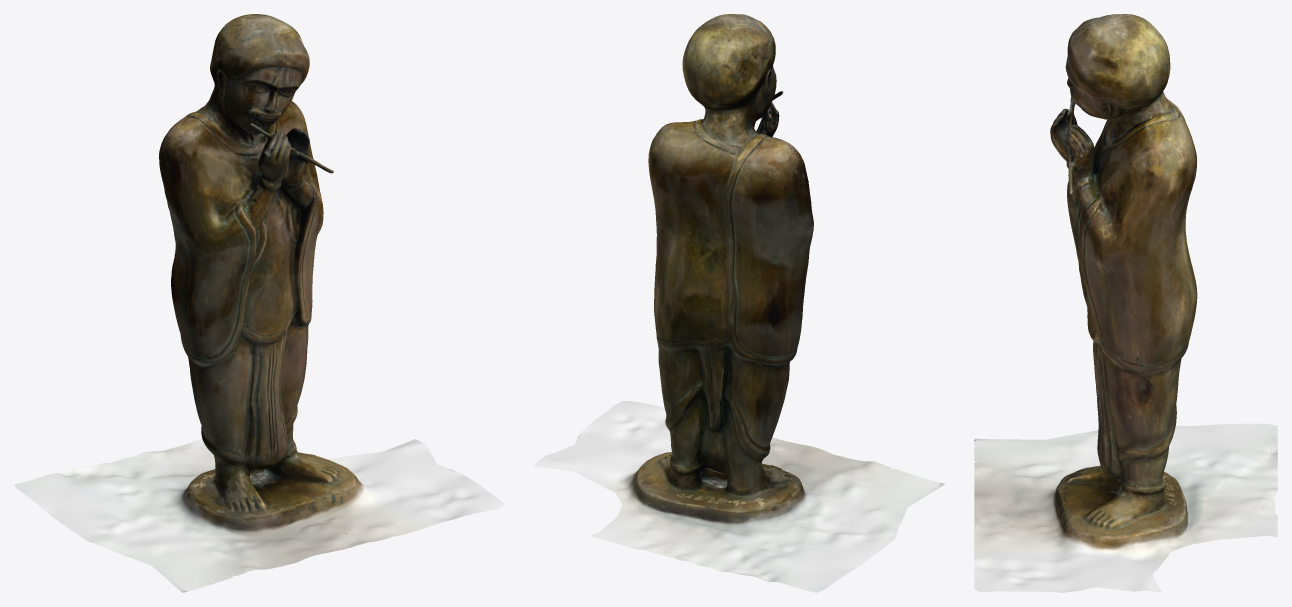
The model's file is LordKrishna.glb.
3 views of the same model, side by side, from view 1: azimuth 30°, elevation 25°; view 2: azimuth 150°, elevation 25°; view 3: azimuth 270°, elevation 25° (orthographic). The views are drawn at different scales.
Parts seen in each view (by area): view 1: LordKrishna; view 2: LordKrishna; view 3: LordKrishna.
Boxes of the visible parts, box(x1,y1,x2,y2) form: LordKrishna: box(14, 14, 504, 592); LordKrishna: box(533, 14, 945, 592); LordKrishna: box(974, 14, 1277, 592).
Size of the model in its own units: 9.24 by 12.37 by 6.89.
Materials: 1 (1 with a texture image).
